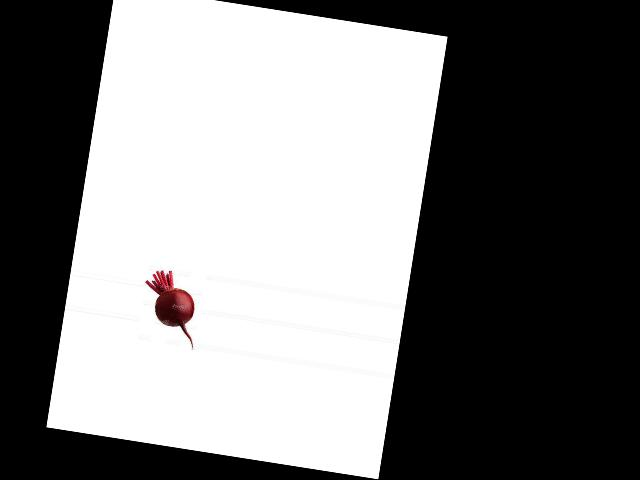beet: (136, 266, 204, 348)
